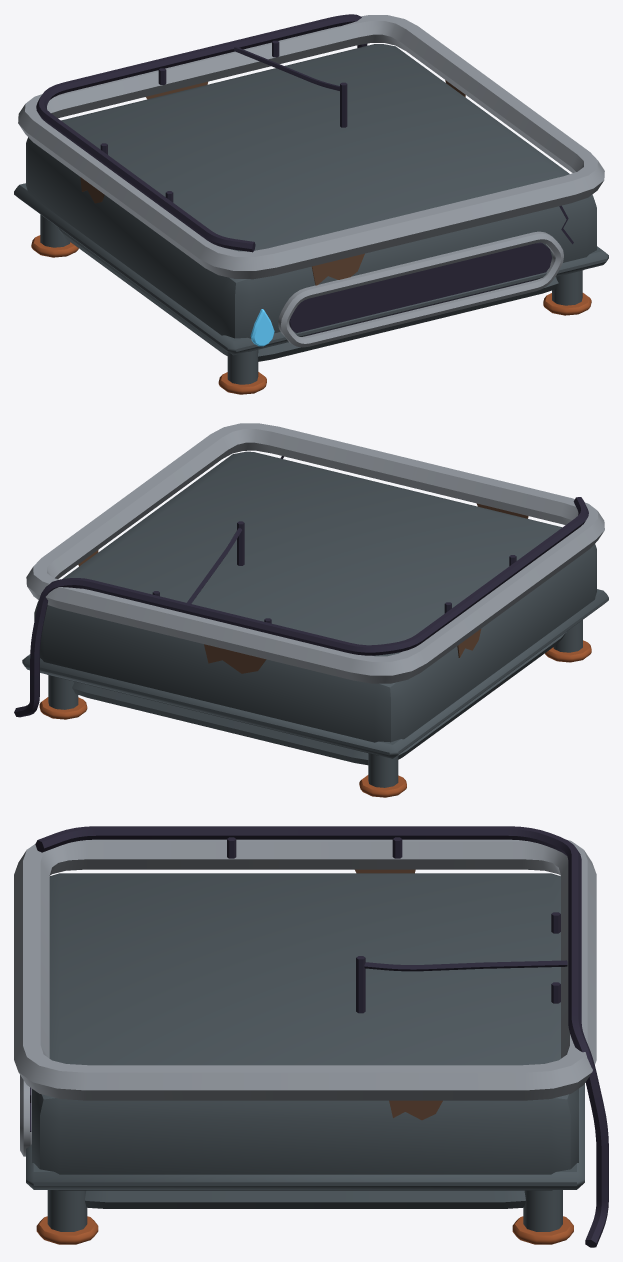
File: grow_tray.glb
3 views of the same model, one above another, from view 1: azimuth 30°, elevation 25°; view 2: azimuth 150°, elevation 25°; view 3: azimuth 270°, elevation 25° (orthographic). The views are drawn at different scales.
Visible parts, largest first — view 1: Tray; view 2: Tray; view 3: Tray.
Boxes of the visible parts, left/top/right/bottom form: Tray: left=14, top=14, right=608, bottom=394; Tray: left=14, top=423, right=608, bottom=797; Tray: left=14, top=826, right=608, bottom=1247.
Size of the model in its own units: 1.47 by 0.58 by 1.5.
